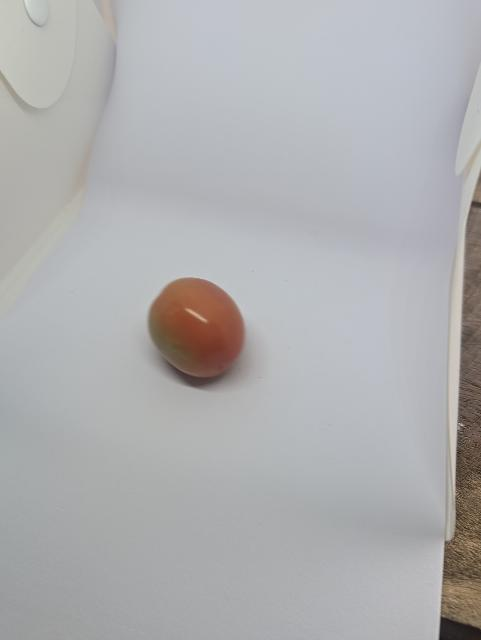turning: (144, 272, 256, 387)
